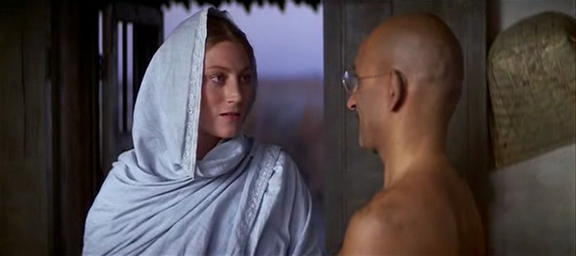face: (206, 54, 252, 139), (341, 55, 377, 150)
mcu: (1, 1, 576, 256)
person: (81, 7, 326, 255), (336, 9, 488, 256)
